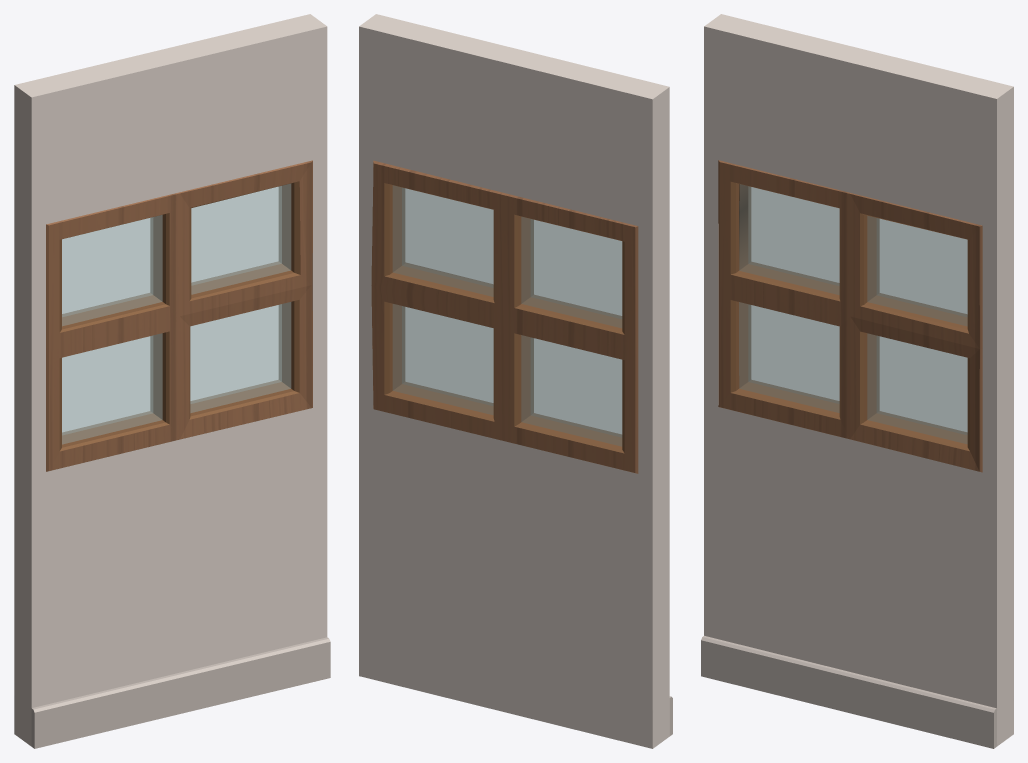
The model's file is Window.fbx.
3 renders of one model, left to right at view 1: azimuth 30°, elevation 25°; view 2: azimuth 150°, elevation 25°; view 3: azimuth 330°, elevation 25°, orthographic.
Parts seen in each view (by area): view 1: Window; view 2: Window; view 3: Window.
Boxes of the visible parts, x1=… form: Window: x1=14, y1=14, x2=330, y2=748; Window: x1=359, y1=14, x2=672, y2=748; Window: x1=701, y1=14, x2=1013, y2=748.
Bounding box in the file's own units: 120 × 252 × 15.59.
Materials: 2 (1 with a texture image).
